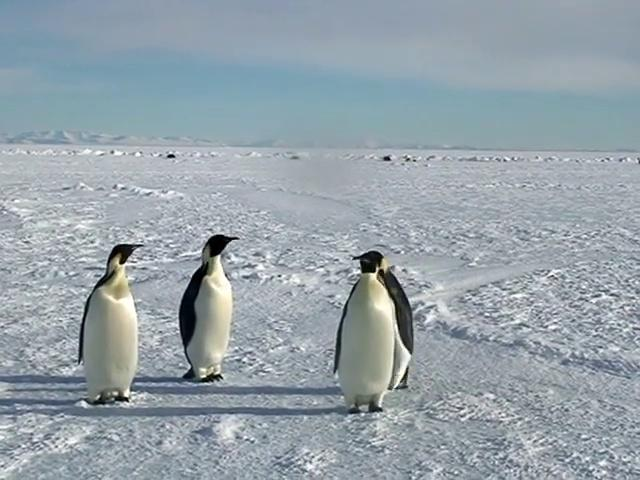animal: (339, 271, 395, 410)
